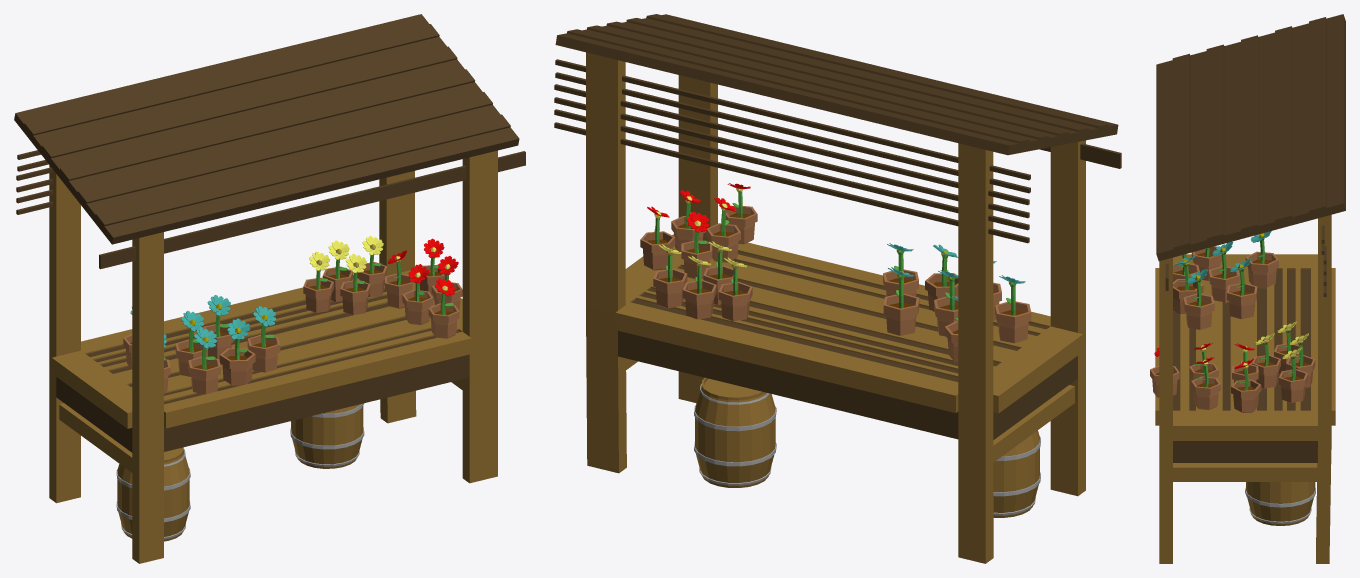
File: MediumFlowerStand.fbx
3 renders of one model, left to right at view 1: azimuth 30°, elevation 25°; view 2: azimuth 150°, elevation 25°; view 3: azimuth 270°, elevation 25°, orthographic. The views are drawn at different scales.
Parts seen in each view (by area): view 1: pCube205; view 2: pCube205; view 3: pCube205.
Part boxes in pixels (x1=…): pCube205: x1=14, y1=14, x2=525, y2=563; pCube205: x1=554, y1=14, x2=1121, y2=563; pCube205: x1=1150, y1=14, x2=1345, y2=563.
Size of the model in its own units: 3.91 by 3.4 by 1.63.
